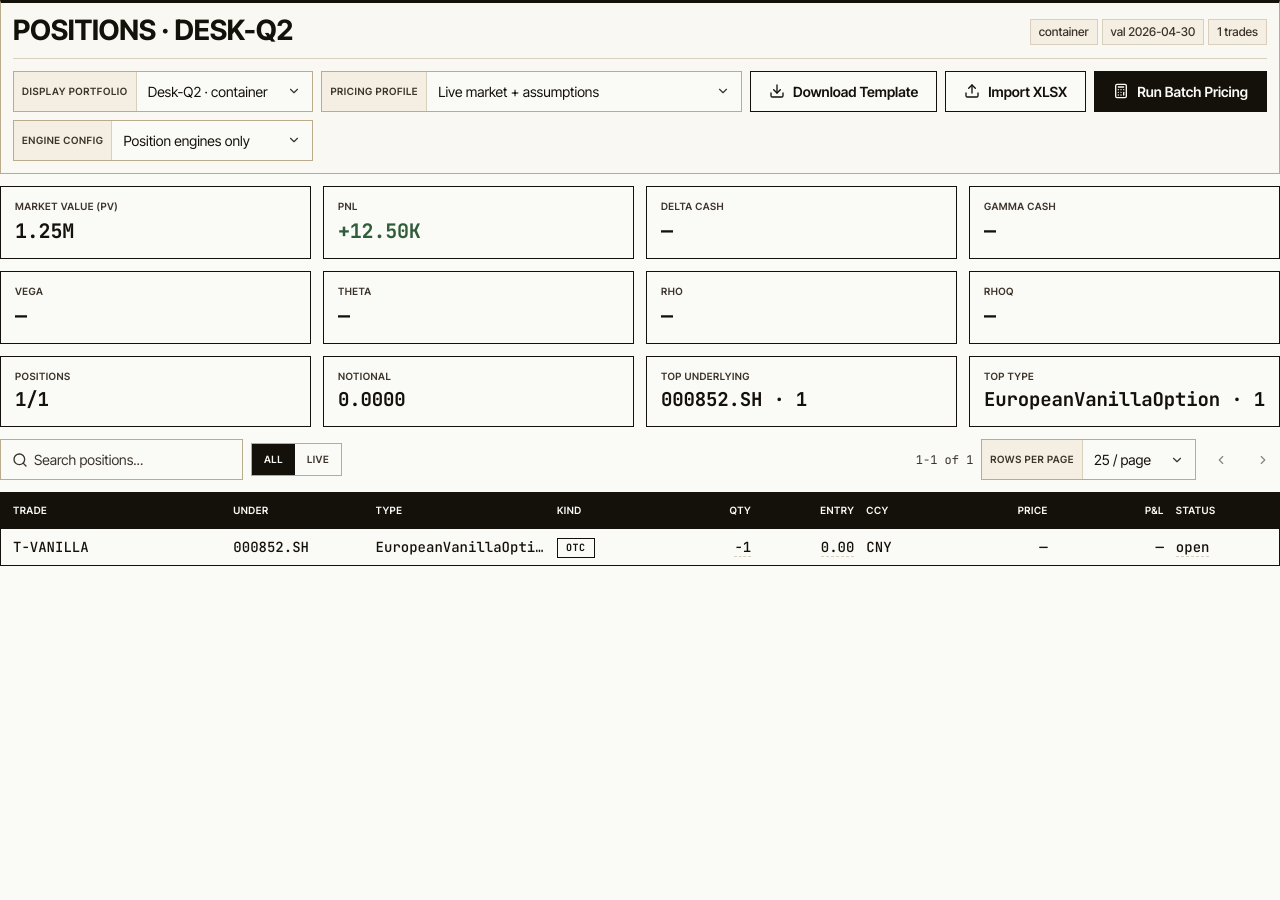
Test case: Positions › leaves ticket market fields blank when no resolved params are available
The image size is (1280, 900).
Click the text "T-VANILLA" at (51, 547), box [13,538,89,556]
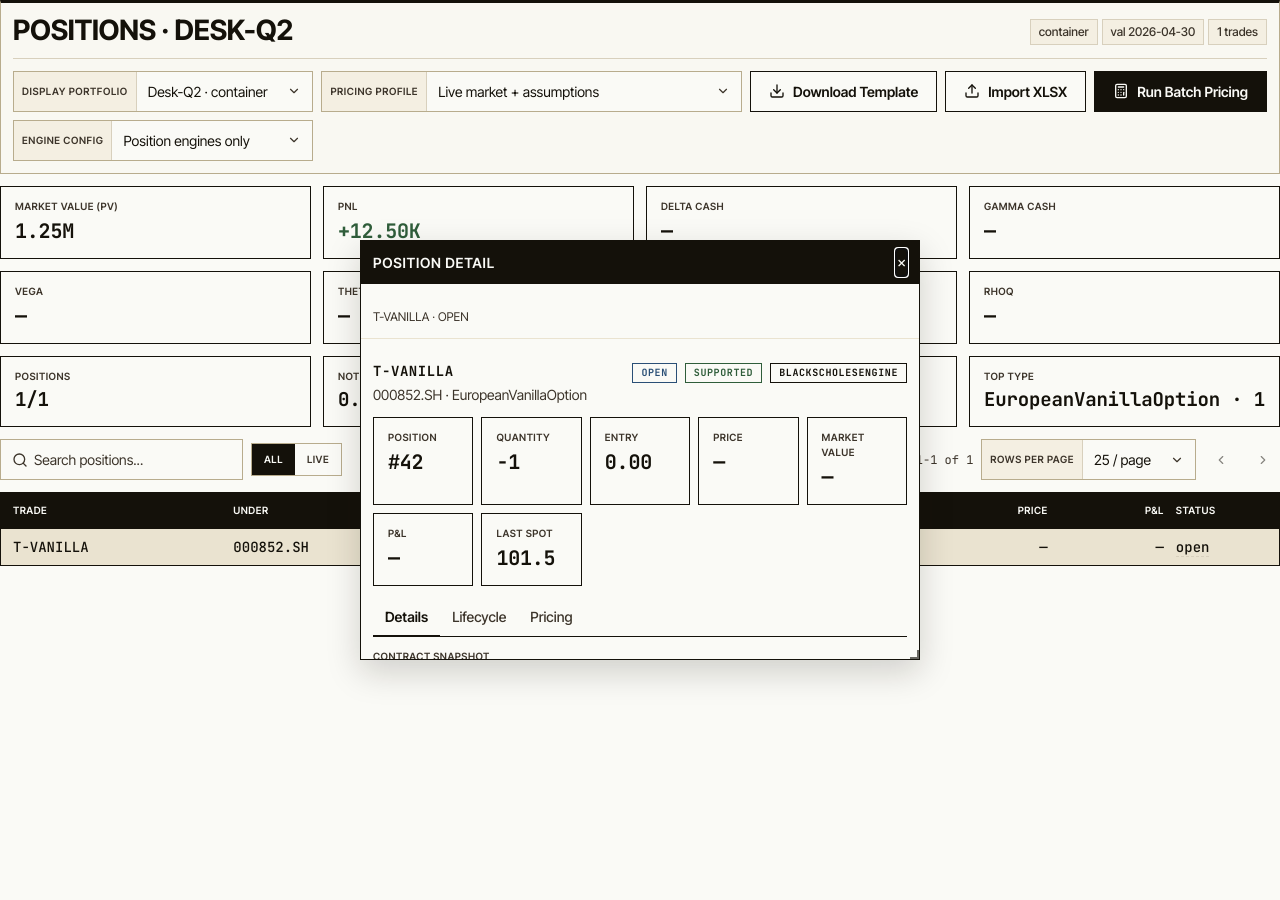
Click the tab "Pricing" at (551, 617), box [518,598,584,637]
(page scrolled)
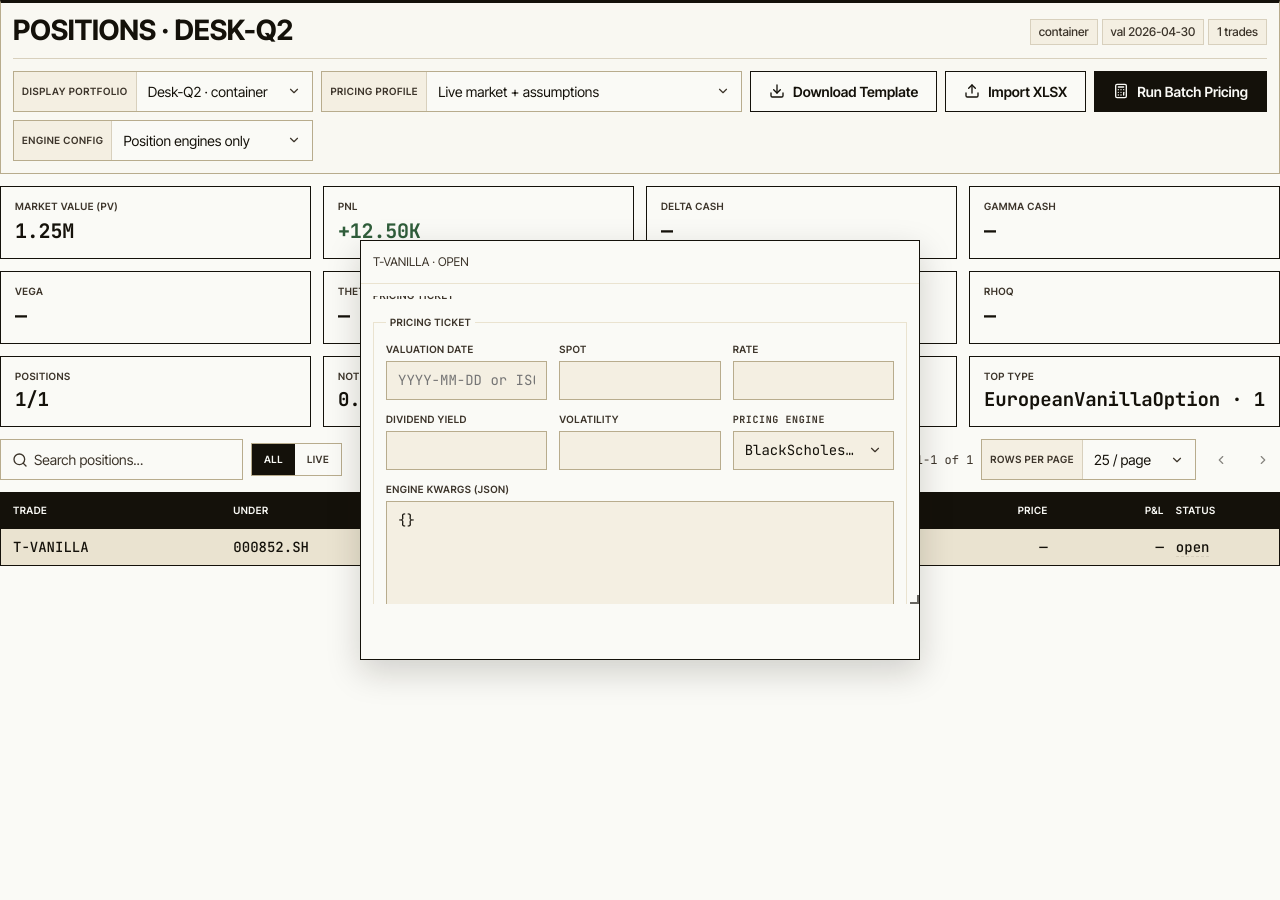
Check: the number field named "Pricing spot" is not empty, box [559,361,721,400]
Check: the number field named "Pricing rate" is not empty, box [733,361,894,400]
Check: the number field named "Pricing dividend yield" is not empty, box [386,431,547,470]
